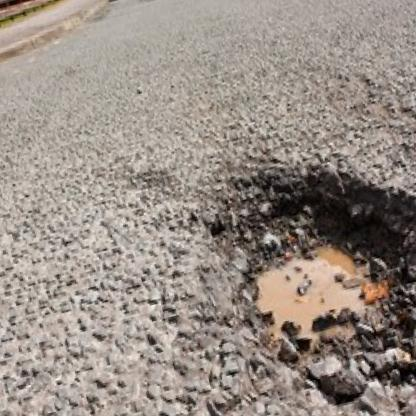pothole: (187, 121, 416, 416)
